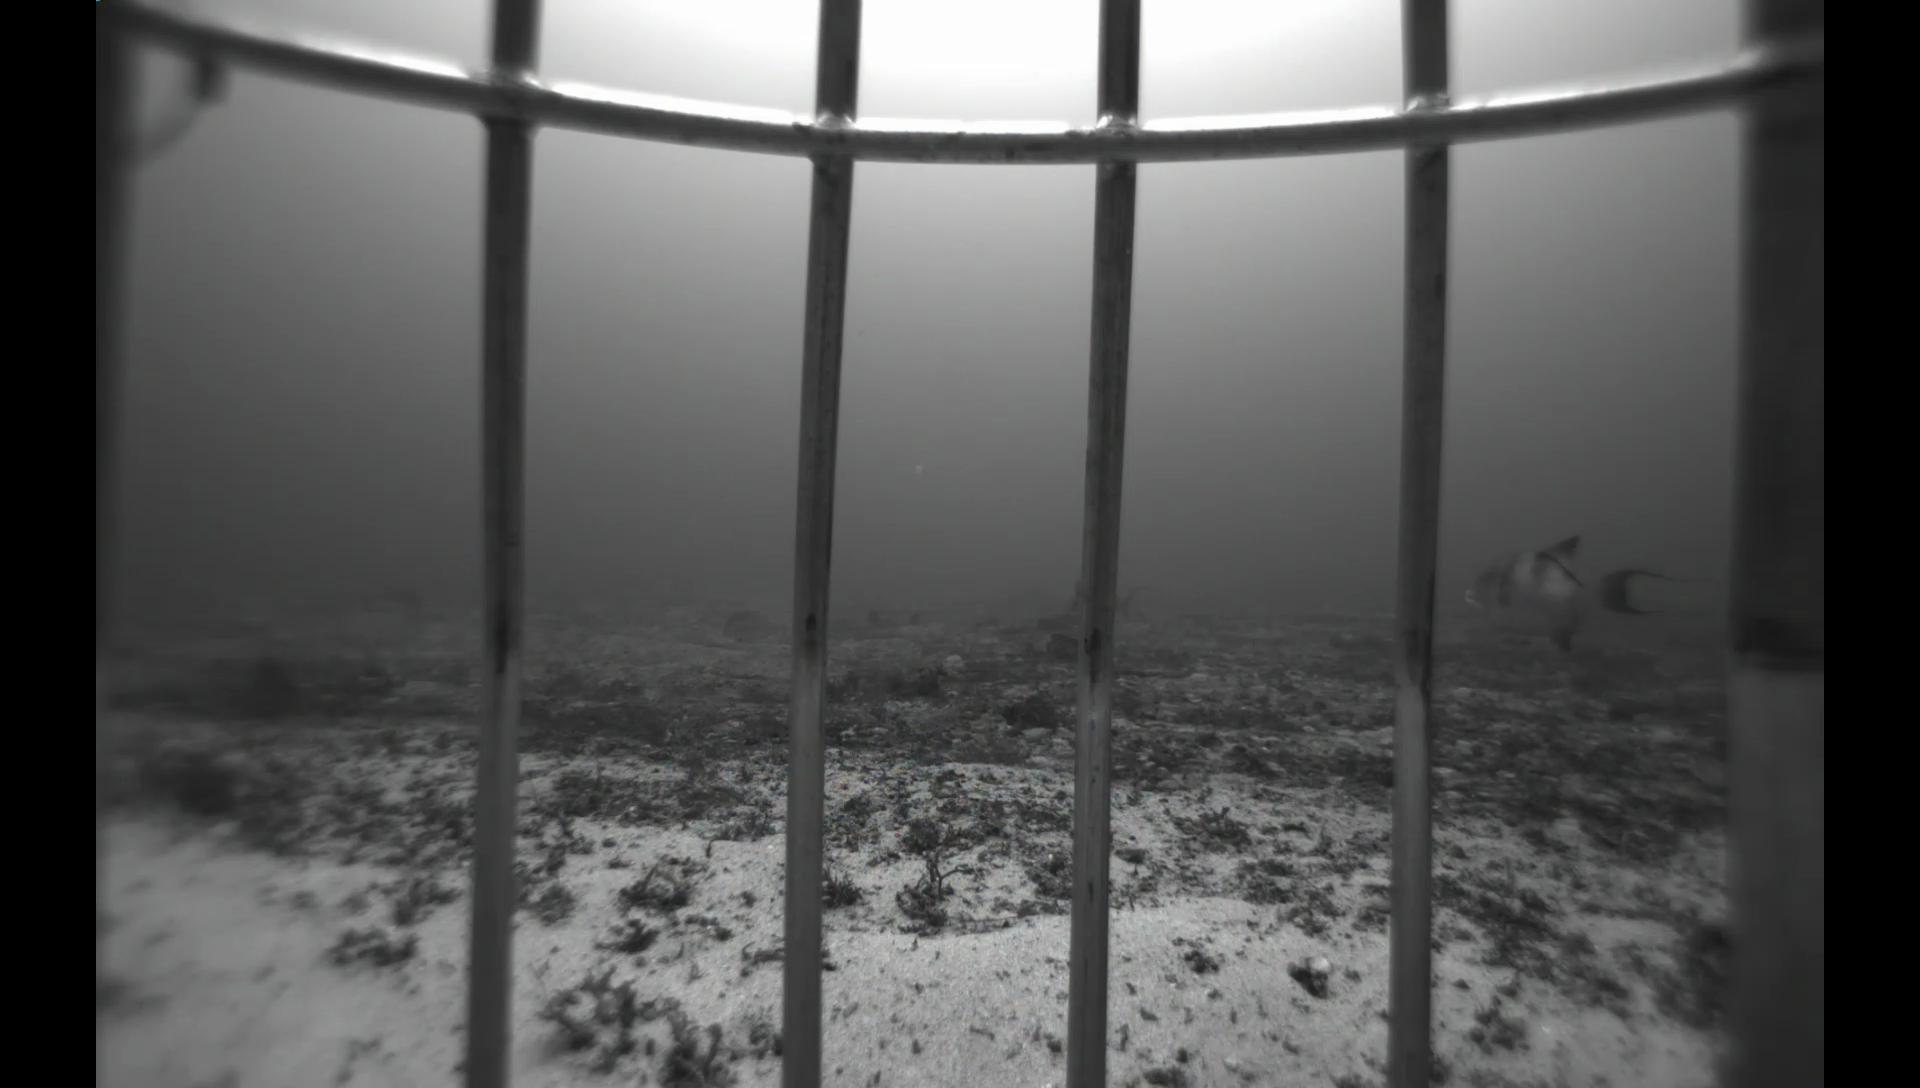BALISTESCAPRISCUS-189030502: (1447, 520, 1706, 663), (1062, 564, 1162, 638)
LUTJANUSGRISEUS-170151109: (715, 601, 794, 648)
PAGRUSPAGRUS-170212302: (212, 603, 307, 658)
